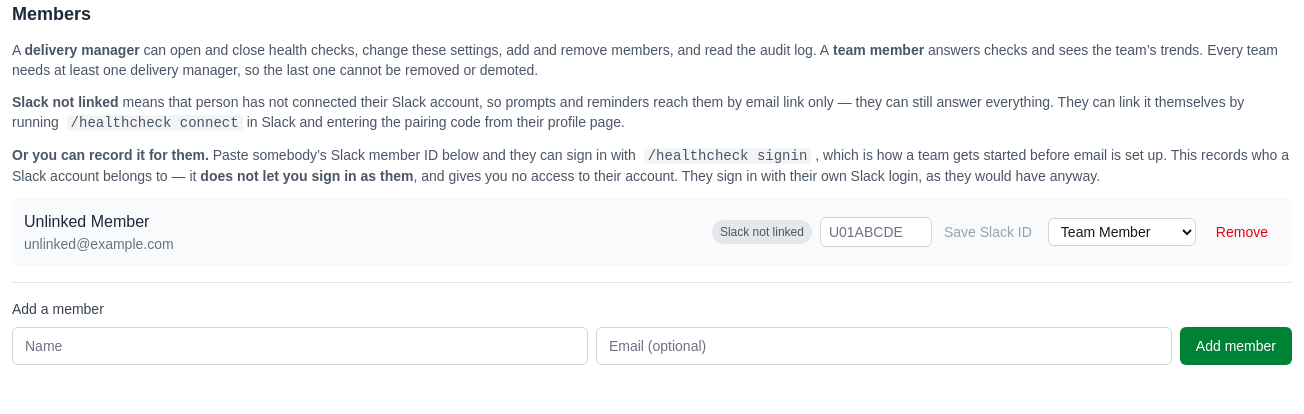
Scenario: recording a Slack account › says what went wrong when the id belongs to somebody else
Type "U123ABC" into the field named "slack member id".
click(876, 232); type("U123ABC")  # box [820, 217, 932, 247]
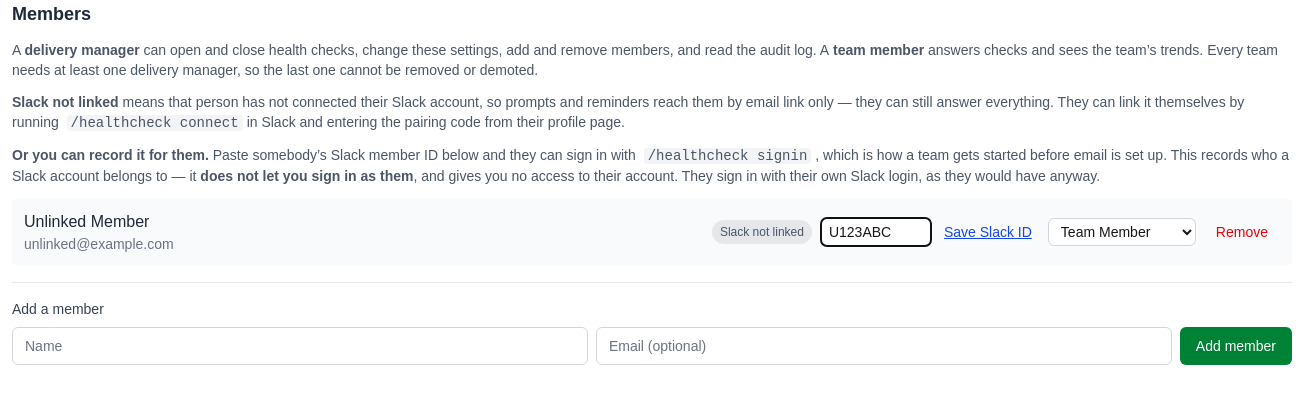
Click the button "Save Slack ID".
click(988, 232)  # box [936, 218, 1040, 246]
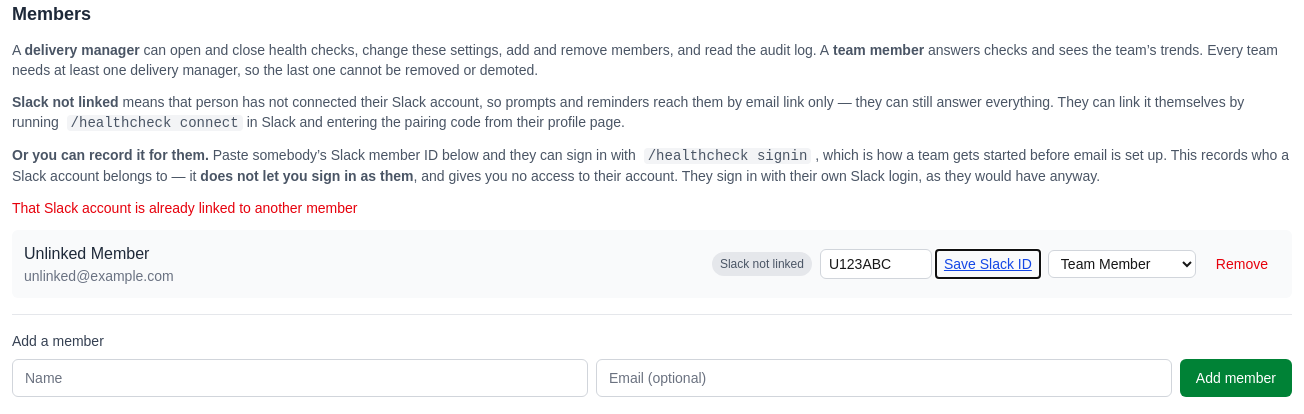
Now the message shows "already linked to another member", box [12, 200, 358, 216]
